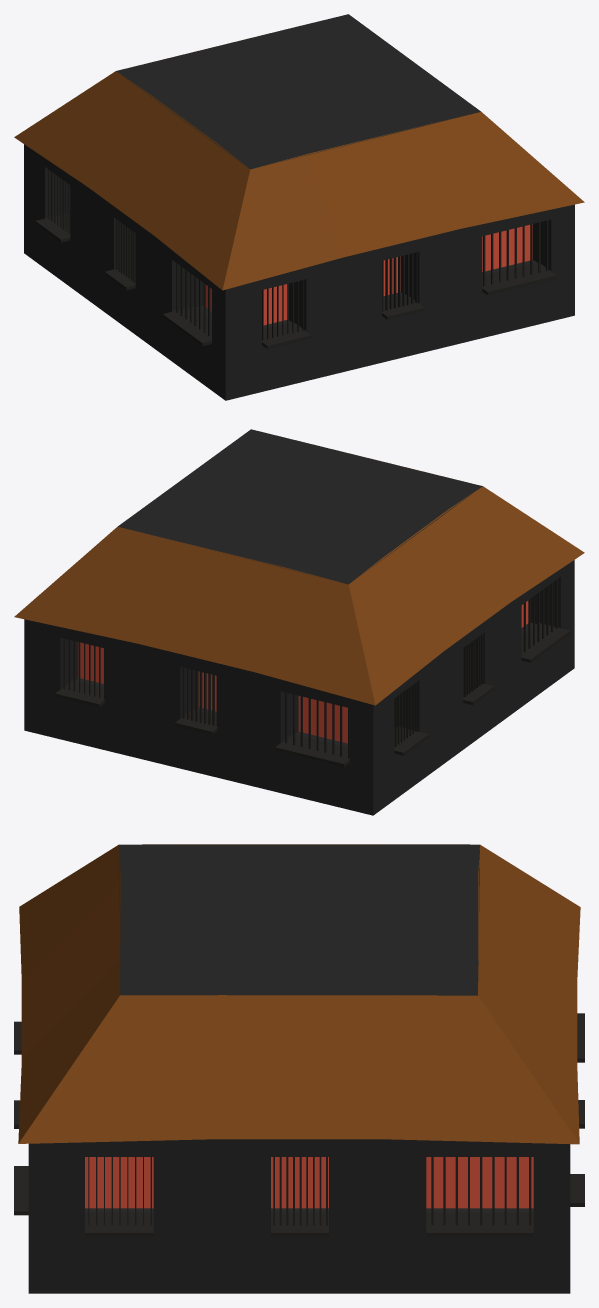
The model's file is casa_procedural_relleno_1.fbx.
3 renders of one model, top to bottom at view 1: azimuth 30°, elevation 25°; view 2: azimuth 150°, elevation 25°; view 3: azimuth 270°, elevation 25°, orthographic. The views are drawn at different scales.
Visible parts, largest first — view 1: casa procedural_relleno_1; view 2: casa procedural_relleno_1; view 3: casa procedural_relleno_1.
Part boxes in pixels (left/top/right/bottom): casa procedural_relleno_1: left=14, top=14, right=584, bottom=400; casa procedural_relleno_1: left=14, top=429, right=584, bottom=815; casa procedural_relleno_1: left=14, top=844, right=584, bottom=1293.
Bounding box in the file's own units: 316 × 159 × 316.
